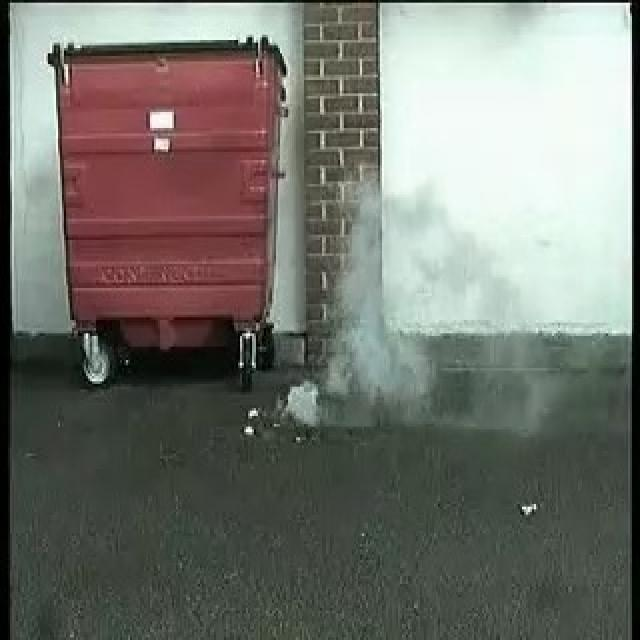smoke: (292, 206, 445, 427)
